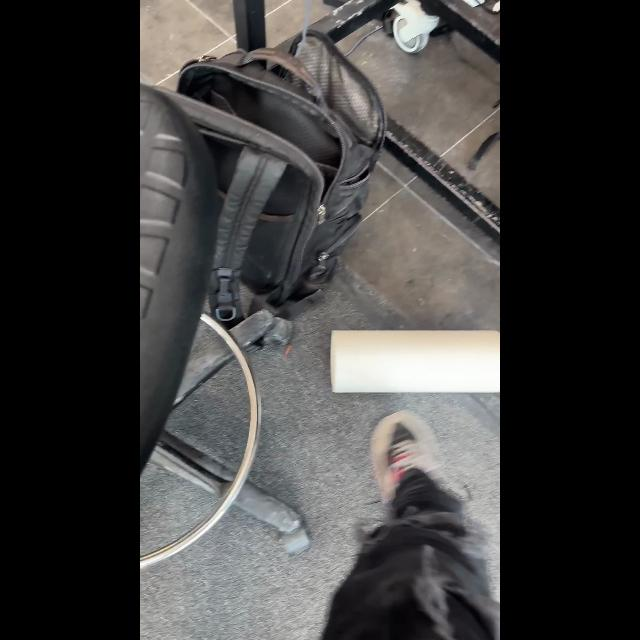CORAL: (329, 328, 499, 394)
